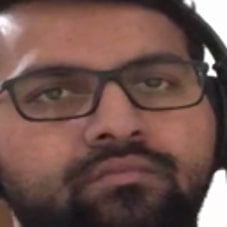drowsy: (6, 46, 199, 205)
